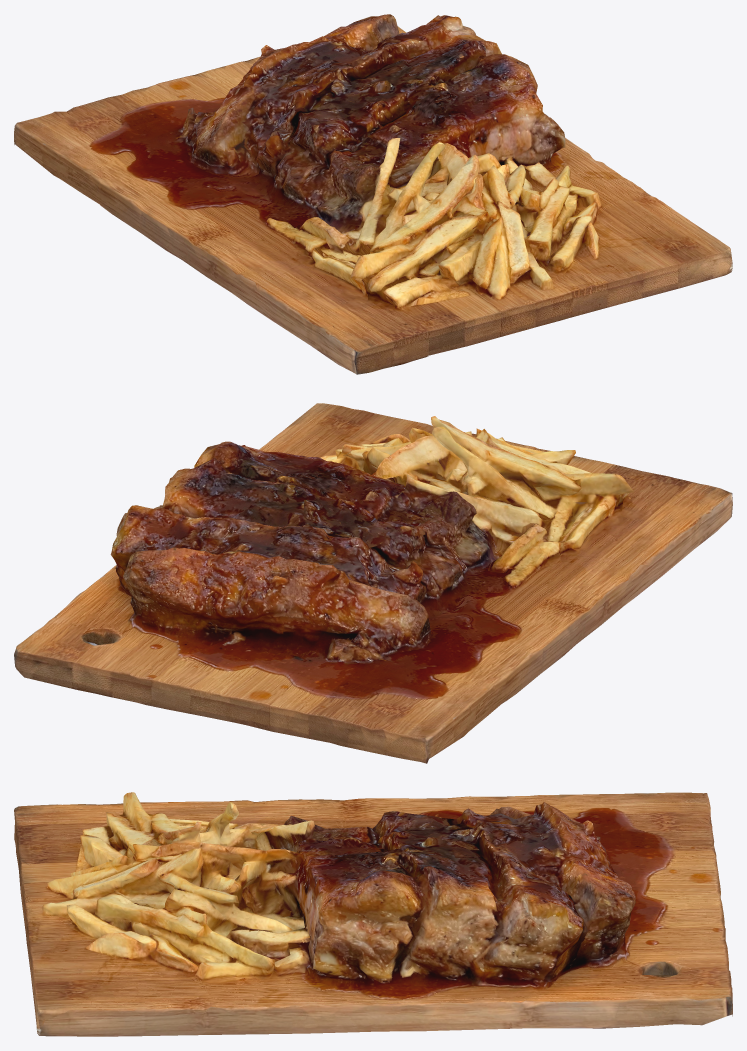
Rendered from BBQ .glb.
3 renders of one model, top to bottom at view 1: azimuth 30°, elevation 25°; view 2: azimuth 150°, elevation 25°; view 3: azimuth 270°, elevation 25°, orthographic. The views are drawn at different scales.
Parts seen in each view (by area): view 1: BBQ; view 2: BBQ; view 3: BBQ.
Part boxes in pixels (<box>): BBQ: <box>14,14,732,374</box>; BBQ: <box>14,403,732,763</box>; BBQ: <box>14,792,732,1036</box>.
Size of the model in its own units: 94.03 by 26.33 by 130.
1 material, 1 textured.
